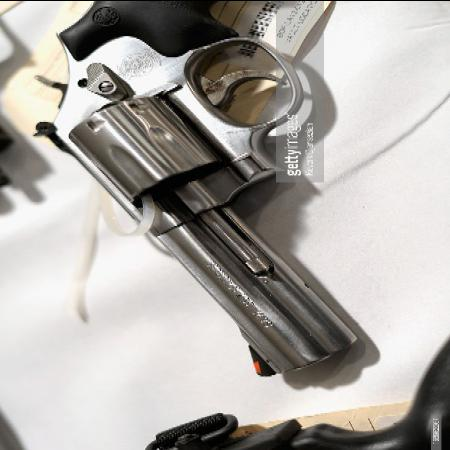Pistol: (27, 2, 359, 388)
